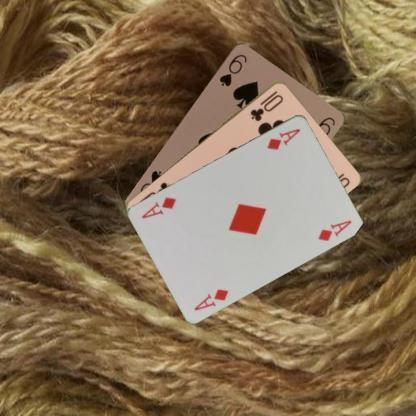10c: (247, 88, 285, 122)
6s: (216, 51, 249, 88)
Ad: (191, 286, 230, 312), (264, 125, 302, 151)
